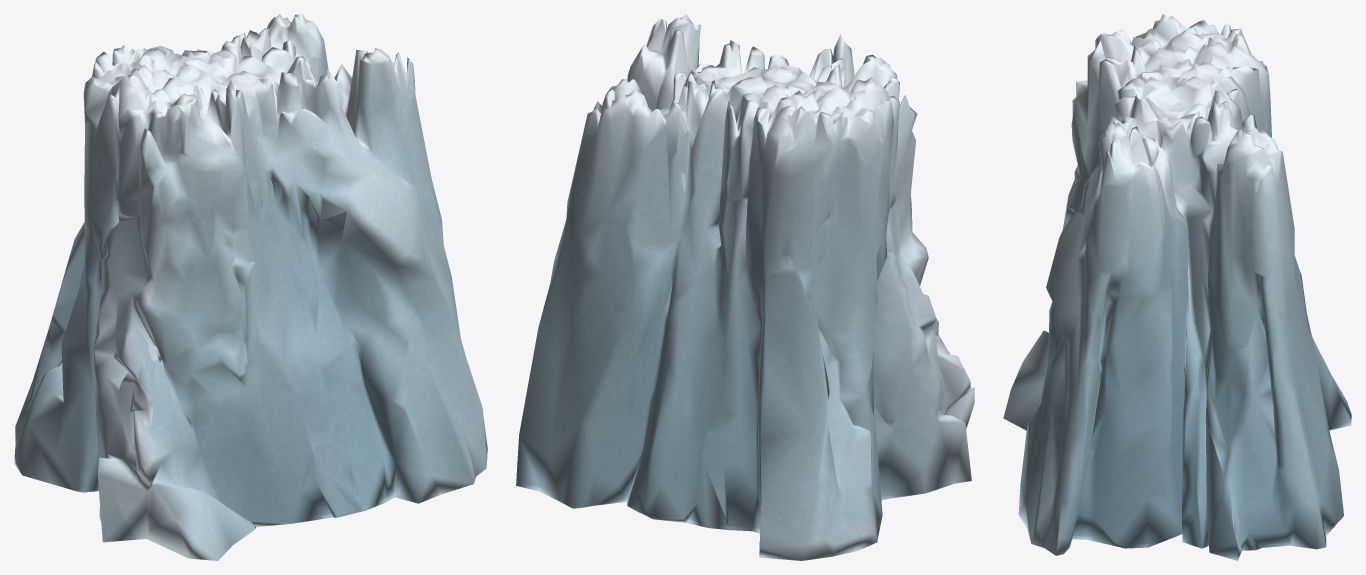
Rendered from prp_ice_wall_a.glb.
3 renders of one model, left to right at view 1: azimuth 30°, elevation 25°; view 2: azimuth 150°, elevation 25°; view 3: azimuth 270°, elevation 25°, orthographic. The views are drawn at different scales.
Visible parts, largest first — view 1: prp_ice_wall_a; view 2: prp_ice_wall_a; view 3: prp_ice_wall_a.
Part boxes in pixels (bbox=[...]): prp_ice_wall_a: bbox=[14, 14, 487, 560]; prp_ice_wall_a: bbox=[516, 14, 974, 560]; prp_ice_wall_a: bbox=[1003, 14, 1351, 560].
Size of the model in its own units: 9.14 by 10 by 7.74.
Materials: 1 (1 with a texture image).
